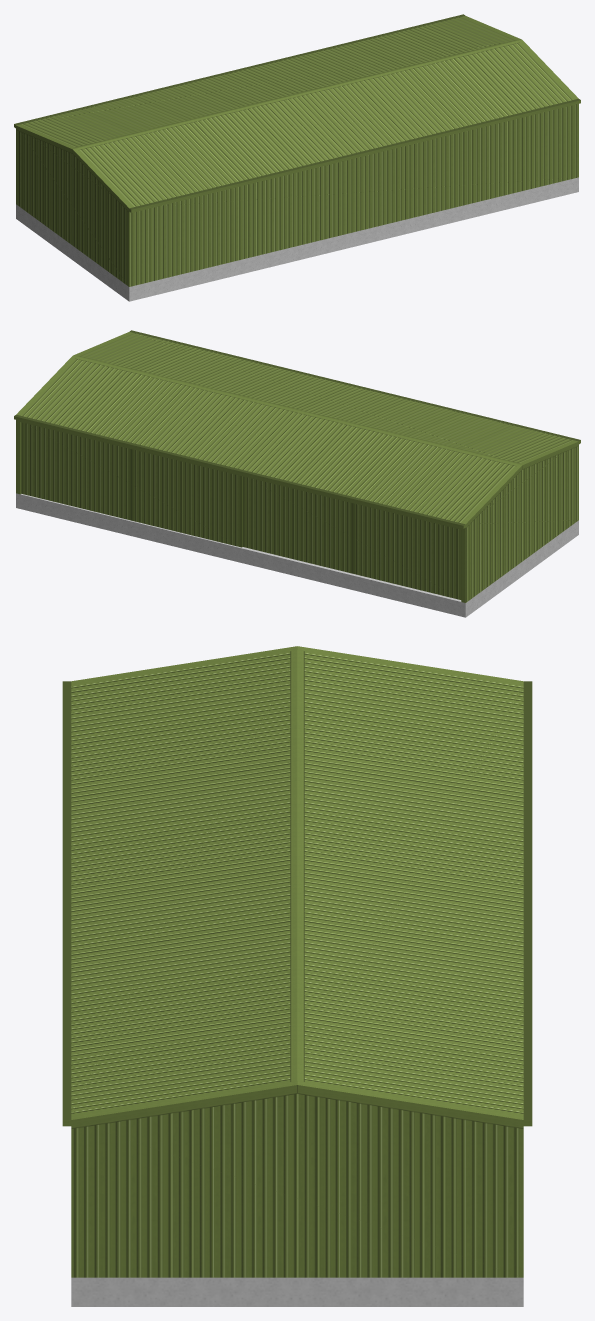
File: hangar-side-door-26x11x4-green-cbj_LOD00.gltf
3 renders of one model, top to bottom at view 1: azimuth 30°, elevation 25°; view 2: azimuth 150°, elevation 25°; view 3: azimuth 270°, elevation 25°, orthographic. The views are drawn at different scales.
Parts seen in each view (by area): view 1: hangar-side-d00; view 2: hangar-side-d00; view 3: hangar-side-d00.
Boxes of the visible parts, x1,y1,x2,y2 form: hangar-side-d00: (14,14,580,301); hangar-side-d00: (14,330,580,617); hangar-side-d00: (62,646,532,1306).
Bounding box in the file's own units: 25.7 × 6.06 × 11.62.
